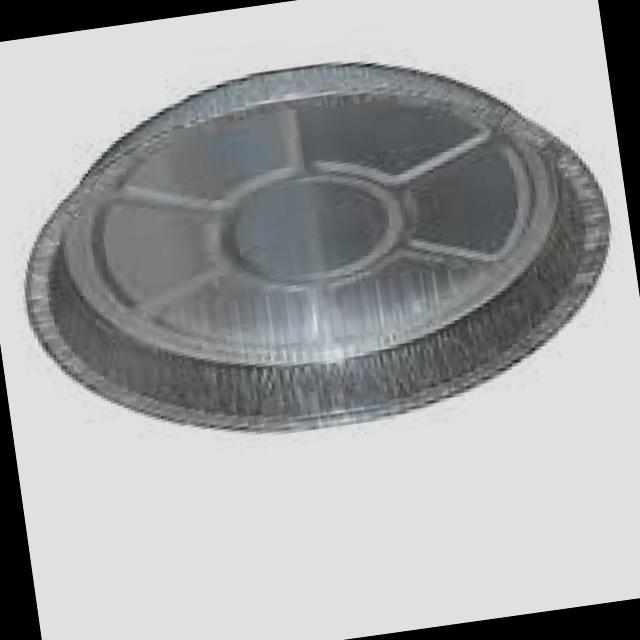kim_loai: (23, 58, 613, 433)
